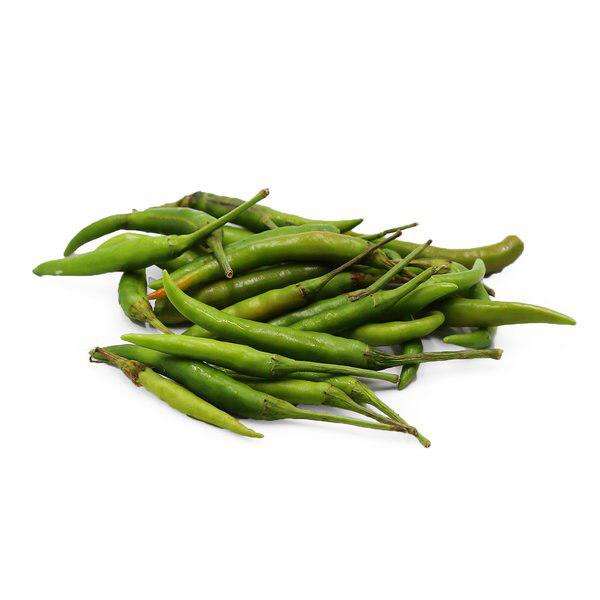lada hijau: (108, 330, 325, 448), (150, 267, 393, 369), (154, 228, 400, 304), (117, 356, 268, 463), (116, 323, 306, 384), (29, 222, 197, 288), (54, 197, 227, 248), (424, 284, 582, 334)
